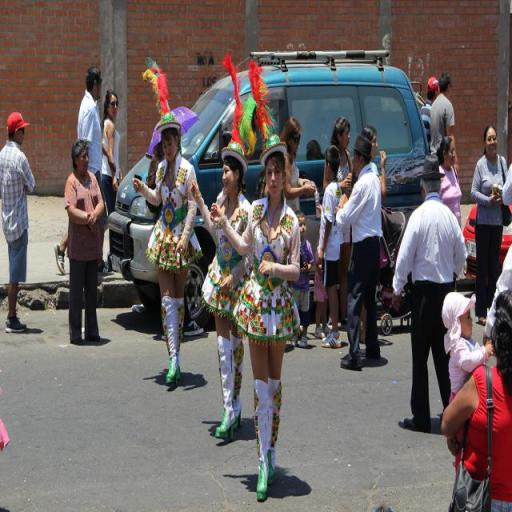person: (214, 159, 303, 504), (191, 159, 258, 442), (392, 180, 462, 437), (134, 134, 201, 391), (438, 282, 512, 512), (338, 135, 391, 369), (55, 71, 115, 274), (2, 113, 39, 336), (68, 140, 108, 343), (472, 121, 512, 320), (319, 149, 344, 351), (437, 138, 465, 292), (334, 123, 354, 329), (285, 118, 316, 221), (431, 75, 460, 179), (103, 94, 120, 263), (297, 212, 313, 352)
